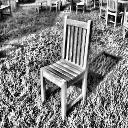chair_success: (32, 10, 98, 122)
